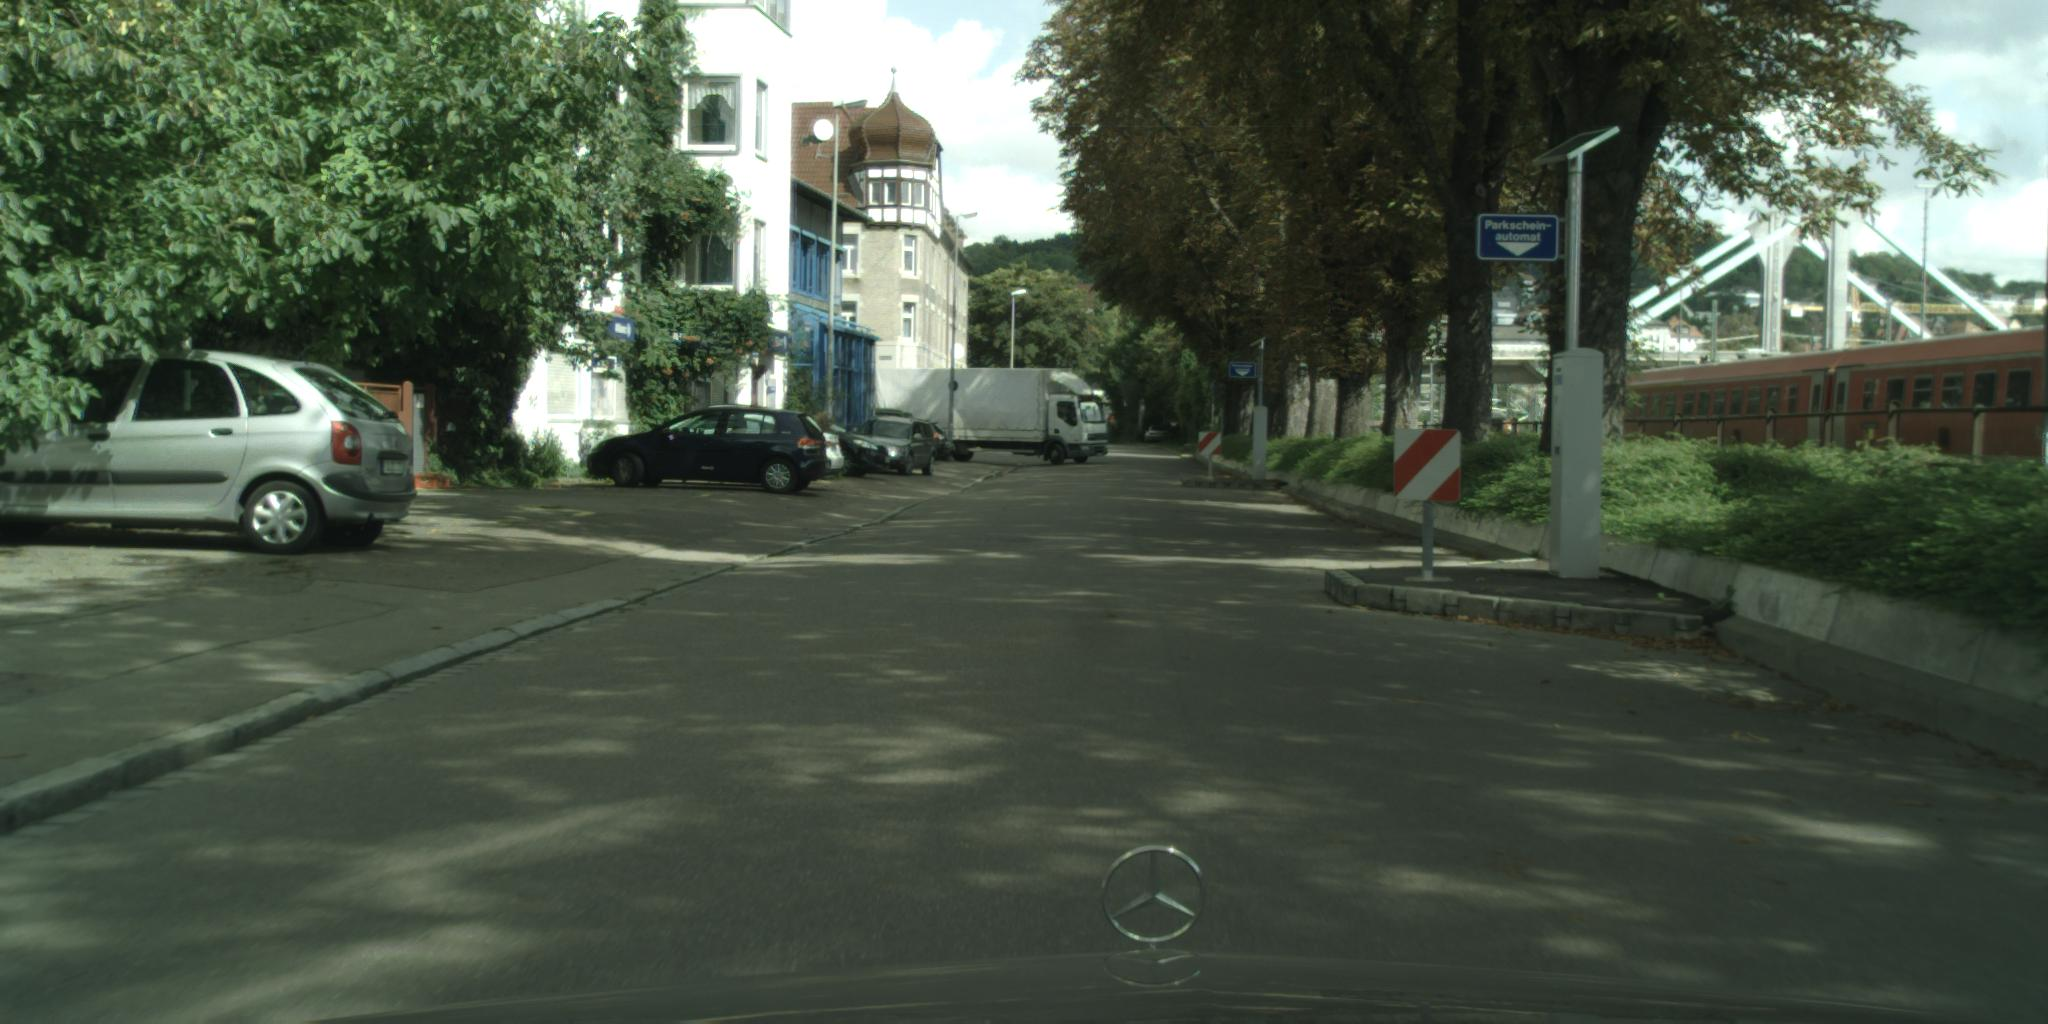car: (1, 350, 418, 555), (586, 406, 829, 496), (846, 417, 938, 478), (876, 409, 951, 462), (819, 419, 884, 478), (816, 431, 844, 472), (1144, 431, 1166, 445)
train: (1614, 327, 2047, 472)
truck: (876, 368, 1110, 466)
